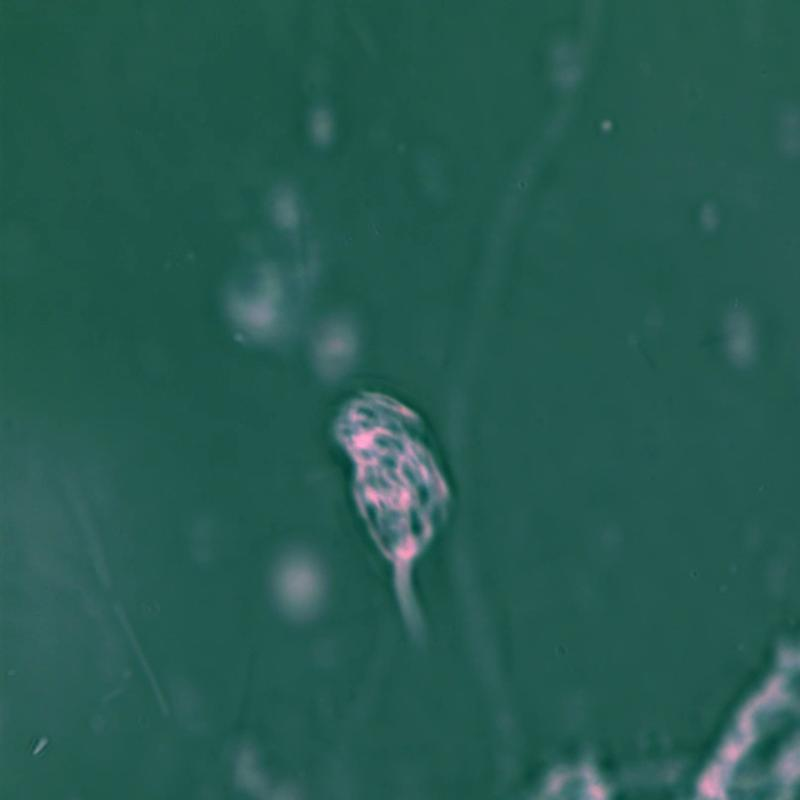depth:60: (299, 358, 508, 684)
